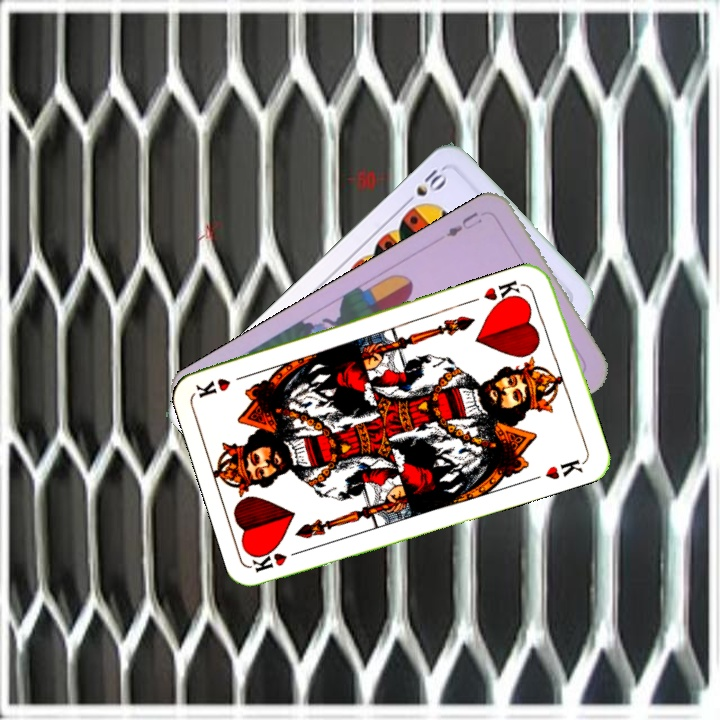EU: (442, 208, 485, 240)
HK: (249, 544, 309, 575), (479, 276, 525, 309)
S10: (399, 165, 450, 209)
